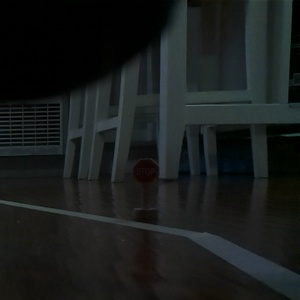stop sign: (130, 156, 161, 223)
